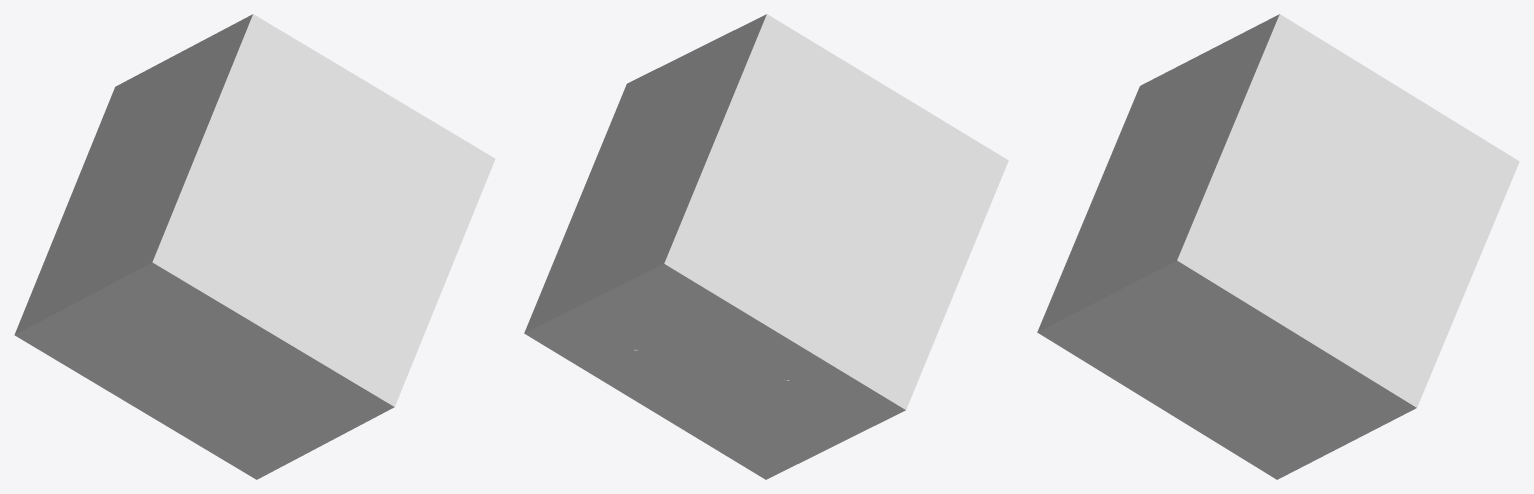
File: Float.fbx
3 views of the same model, side by side, from view 1: azimuth 30°, elevation 25°; view 2: azimuth 150°, elevation 25°; view 3: azimuth 270°, elevation 25° (orthographic).
Parts seen in each view (by area): view 1: pCube1; view 2: pCube1; view 3: pCube1.
Boxes of the visible parts, box(x1,y1,x2,y2) form: pCube1: box(14, 14, 495, 479); pCube1: box(524, 14, 1008, 479); pCube1: box(1037, 14, 1519, 479).
Size of the model in its own units: 85.2 by 99.83 by 93.93.
2 materials, 1 textured.
